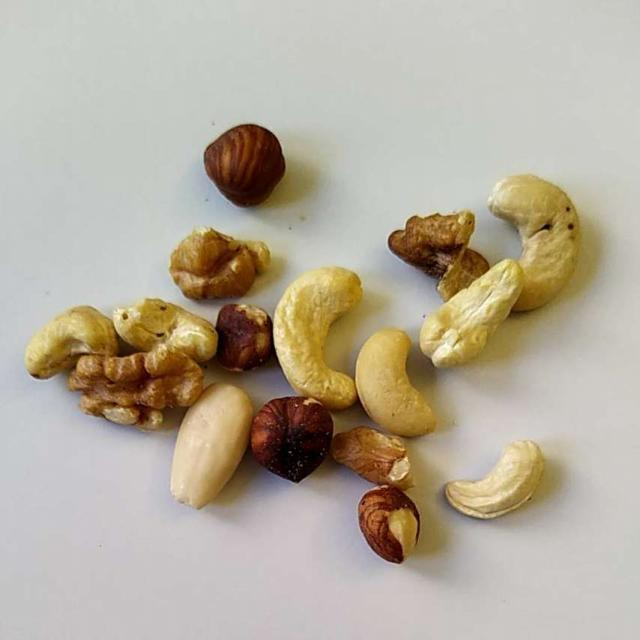mixed-nuts: (16, 109, 581, 570)
